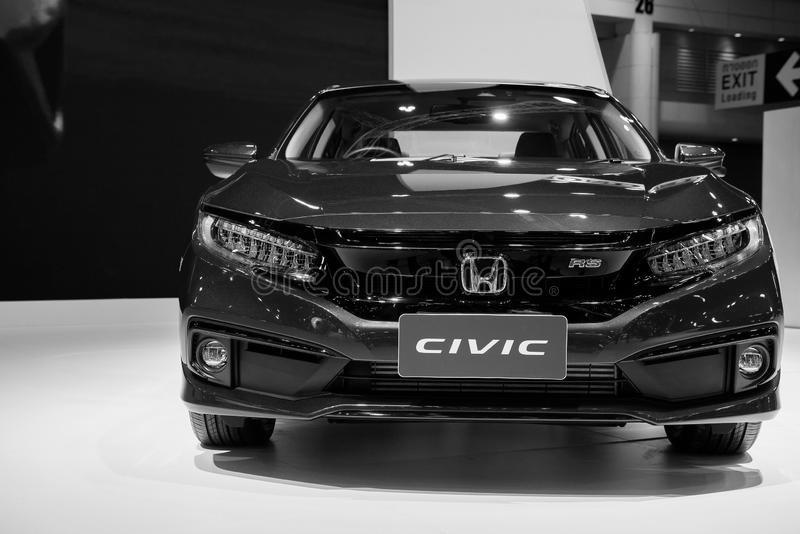Car hood: (192, 161, 760, 240)
Front bumper: (169, 248, 789, 432)
Headlight - -L-: (636, 210, 774, 298)
Headlight - -R-: (188, 207, 335, 296)
Side mirror - -L-: (666, 143, 730, 174)
Side mirror - -R-: (205, 142, 264, 179)
